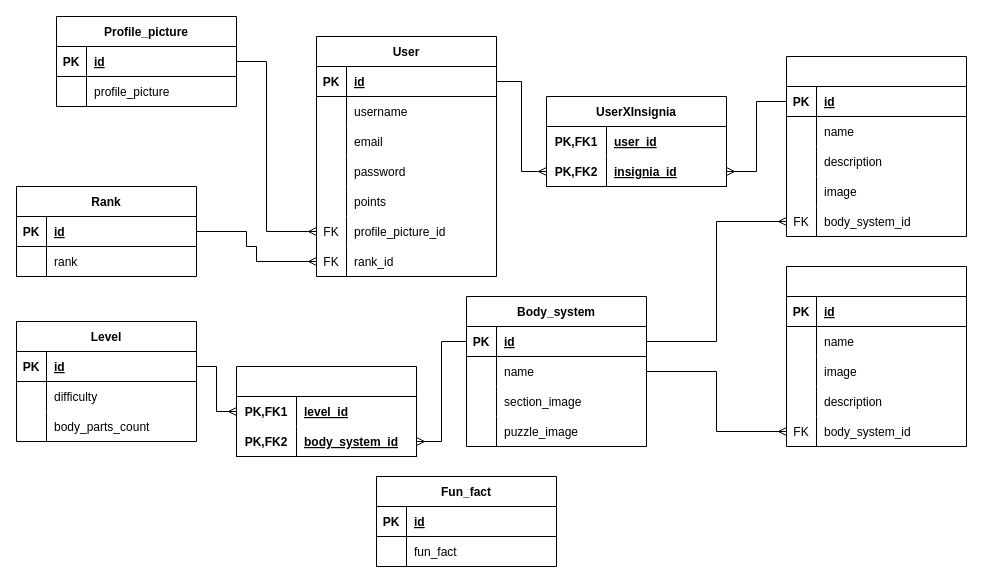
Image size: 983x583. Some labels were removed from this diagram. The shapes that lost their labels are listed below. From the top down, each one's box as (x1, y1, x2, y2) in pixels, then its label:
(786, 56, 966, 236): Insignia
(786, 266, 966, 446): Body_part
(236, 366, 416, 456): LevelXBody_system
